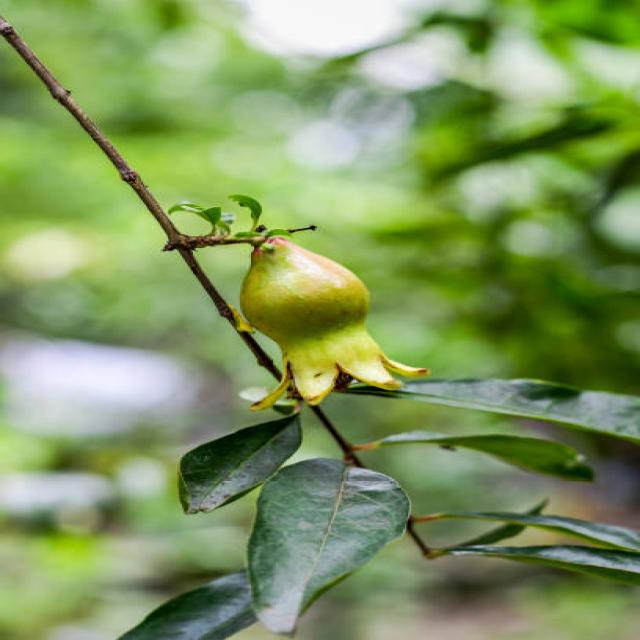Unripe: (238, 233, 436, 416)
